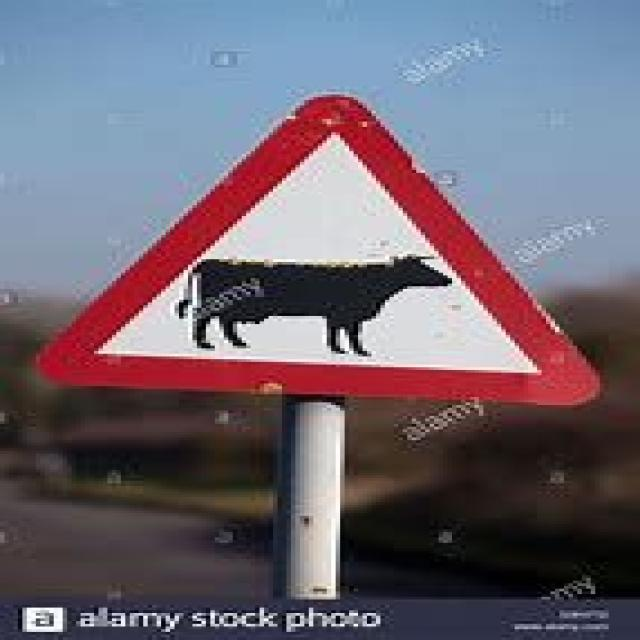CATTLE: (32, 91, 604, 418)
